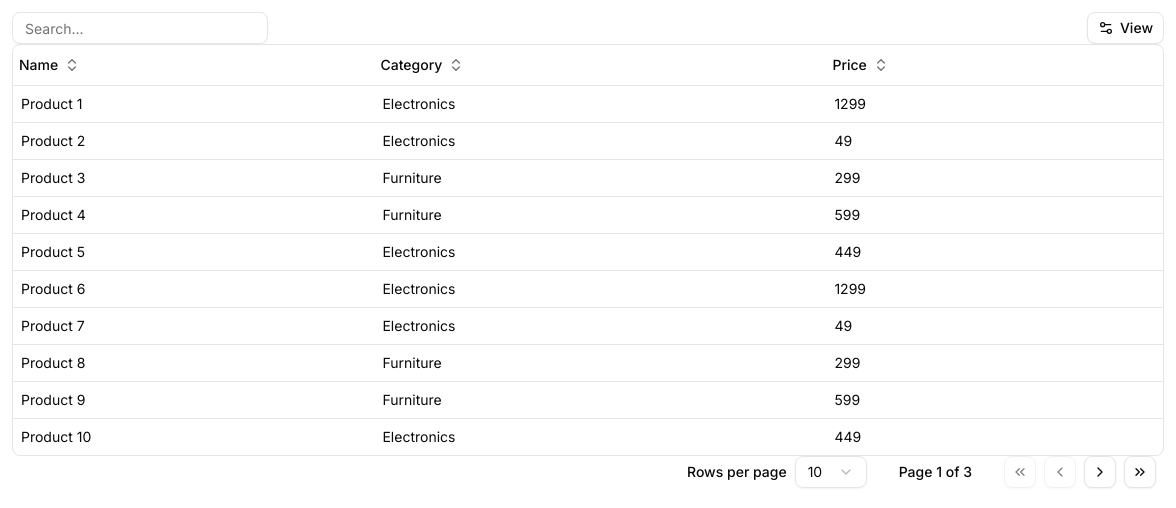
Test case: DataTable pagination › navigates between pages
This screenshot has width=1176, height=508.
What coordinates should you click on to do the following:
click the button named "Go to next page"
I would click on:
 (1100, 472)
Its box is [1084,456,1116,488].
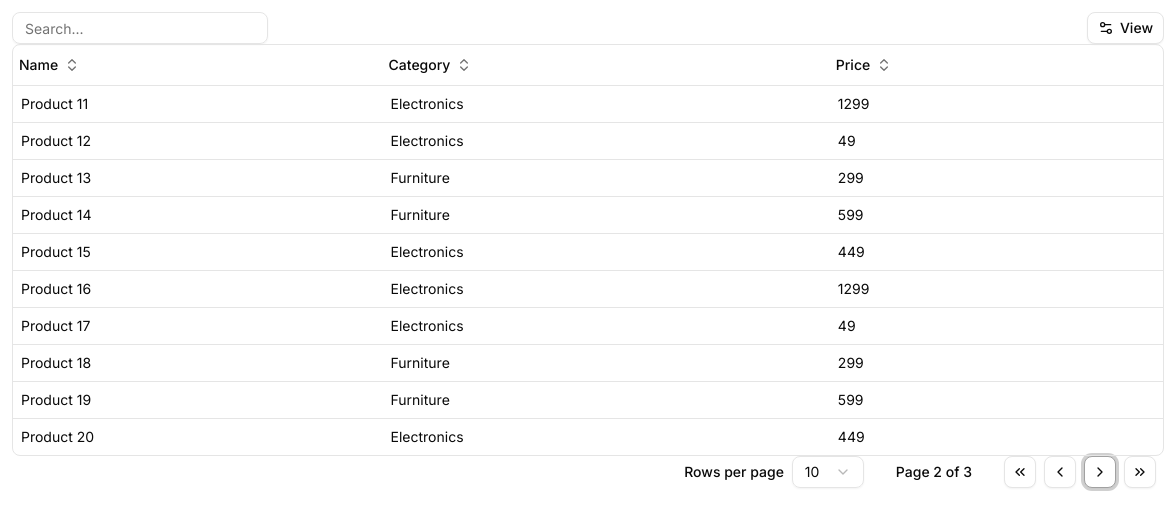
Check: the text "Page 2 of 3" is shown, box [896,462,972,482]
Check: the text with test id "name" reads "Product 11", box [21,94,88,112]
What coordinates should you click on to do the following:
click the button named "Go to last page"
I would click on:
 (1140, 472)
Its box is [1124,456,1156,488].
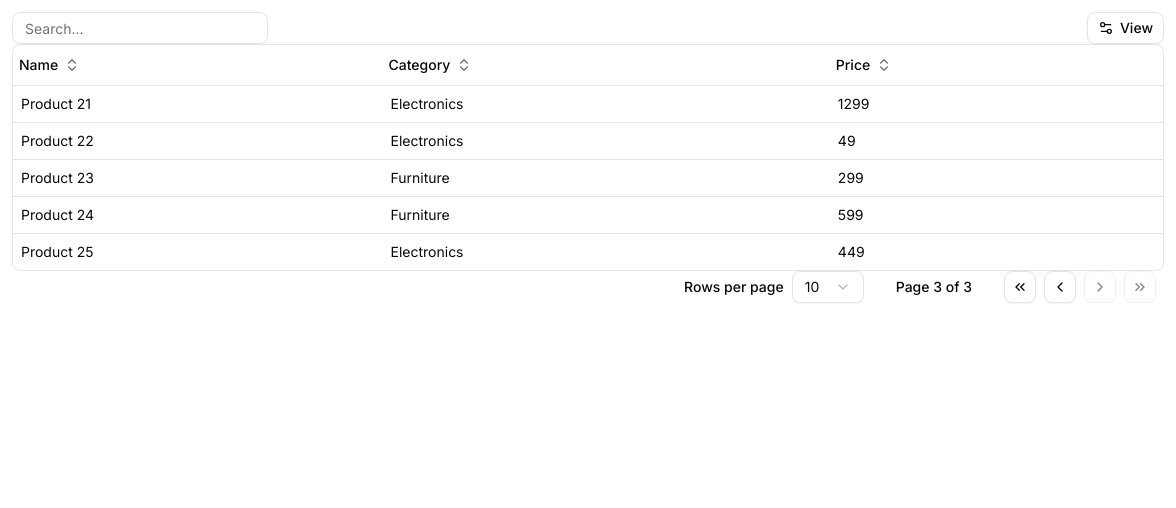
Check: the button named "Go to next page" is disabled, box [1084,270,1116,302]
Check: the text "Page 3 of 3" is shown, box [896,276,972,296]
What coordinates should you click on to do the following:
click the button named "Go to previous page"
I would click on:
 (1060, 286)
Its box is [1044,270,1076,302].
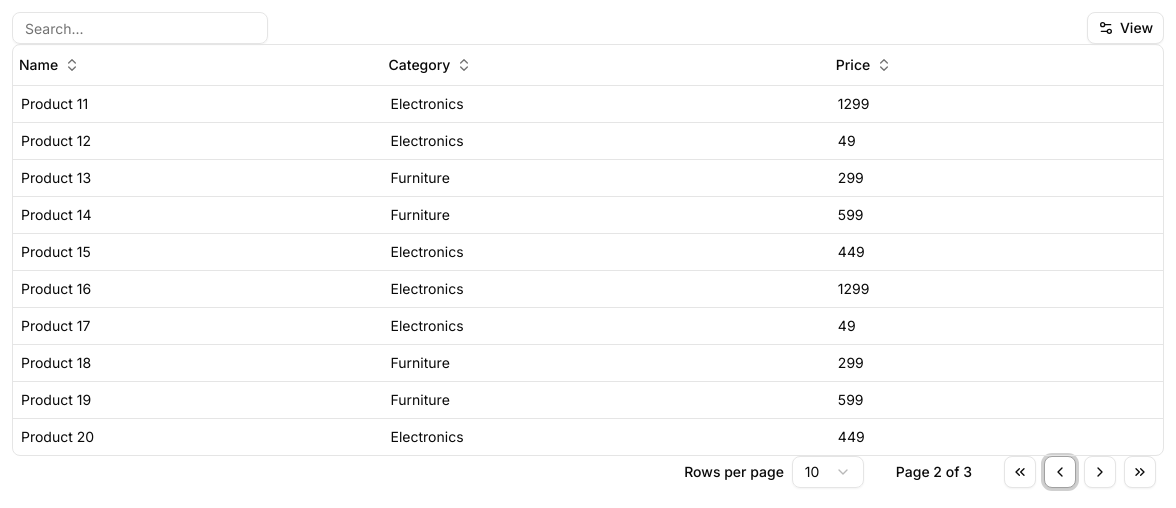
Check: the text "Page 2 of 3" is shown, box [896,462,972,482]
What coordinates should you click on to do the following:
click the button named "Go to first page"
I would click on:
 (1020, 472)
Its box is [1004,456,1036,488].
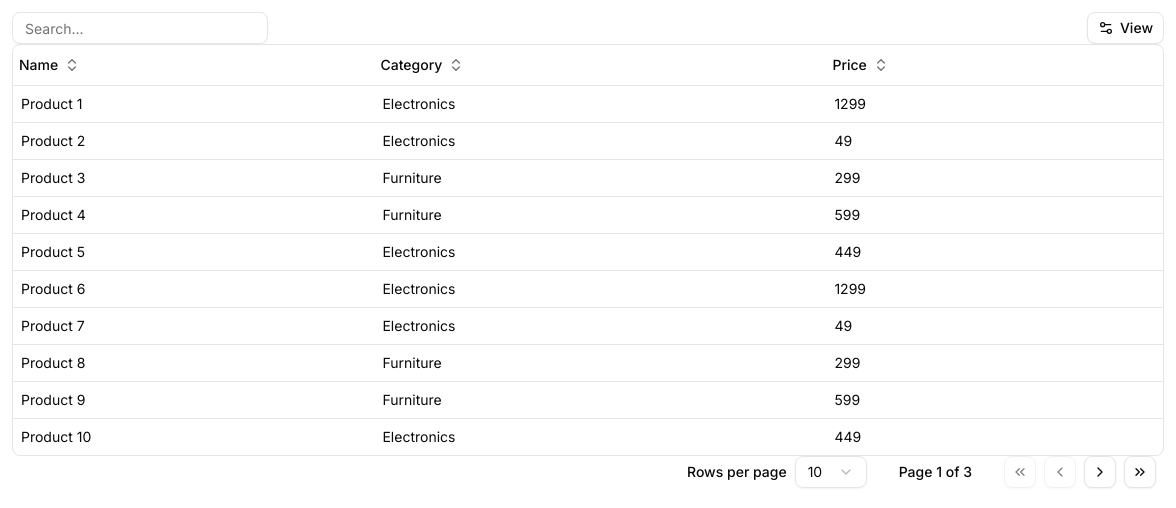
Check: the text "Page 1 of 3" is shown, box [899,462,972,482]
Check: the button named "Go to previous page" is disabled, box [1044,456,1076,488]
